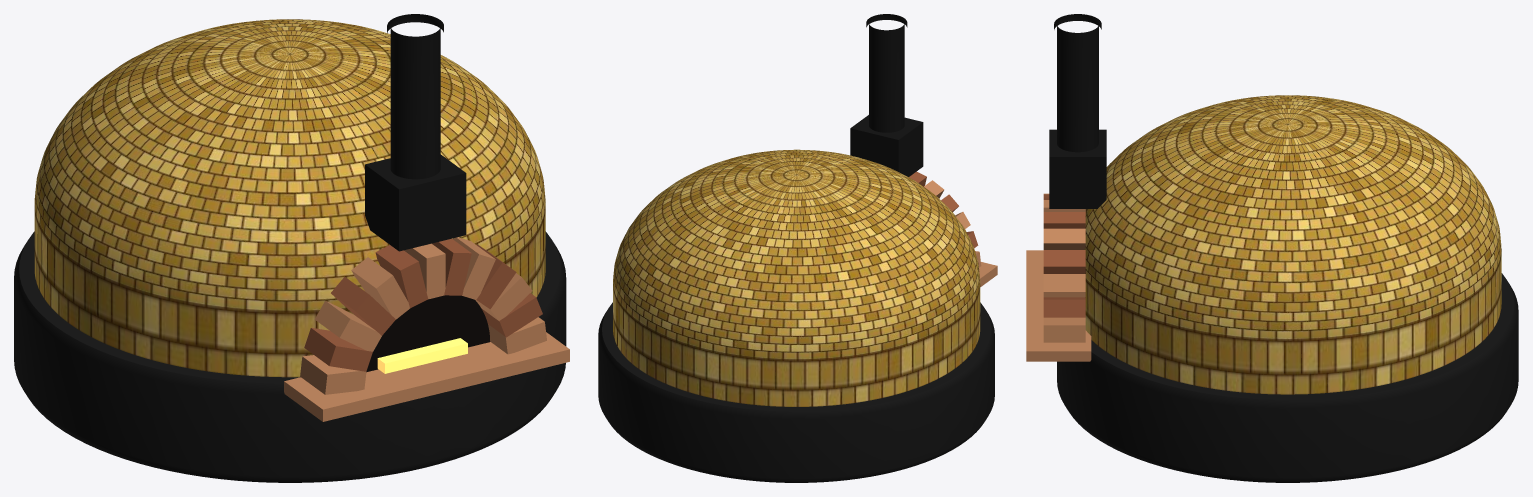
The model's file is producto.glb.
The picture shows the model from 3 angles, left to right: view 1: azimuth 30°, elevation 25°; view 2: azimuth 150°, elevation 25°; view 3: azimuth 270°, elevation 25°; orthographic projection. The views are drawn at different scales.
Parts seen in each view (by area): view 1: cupula, base, arco, chimenea, arco-oscuro, boca, fuego; view 2: cupula, base, chimenea, arco, arco-oscuro; view 3: cupula, base, chimenea, arco, arco-oscuro.
Part boxes in pixels (<box>): cupula: <box>34,19,545,377</box>; base: <box>14,231,566,482</box>; arco: <box>284,237,569,421</box>; chimenea: <box>365,14,466,251</box>; arco-oscuro: <box>304,238,542,371</box>; boca: <box>366,295,490,372</box>; fuego: <box>377,338,467,373</box>; cupula: <box>613,149,980,406</box>; base: <box>598,302,994,482</box>; chimenea: <box>850,14,923,176</box>; arco: <box>924,180,997,286</box>; arco-oscuro: <box>909,171,978,248</box>; cupula: <box>1084,95,1501,394</box>; base: <box>1057,273,1518,482</box>; chimenea: <box>1049,14,1106,208</box>; arco: <box>1026,193,1091,361</box>; arco-oscuro: <box>1043,194,1085,317</box>.
Bounding box in the file's own units: 2.42 × 2.1 × 2.58.
7 materials, 1 textured.
